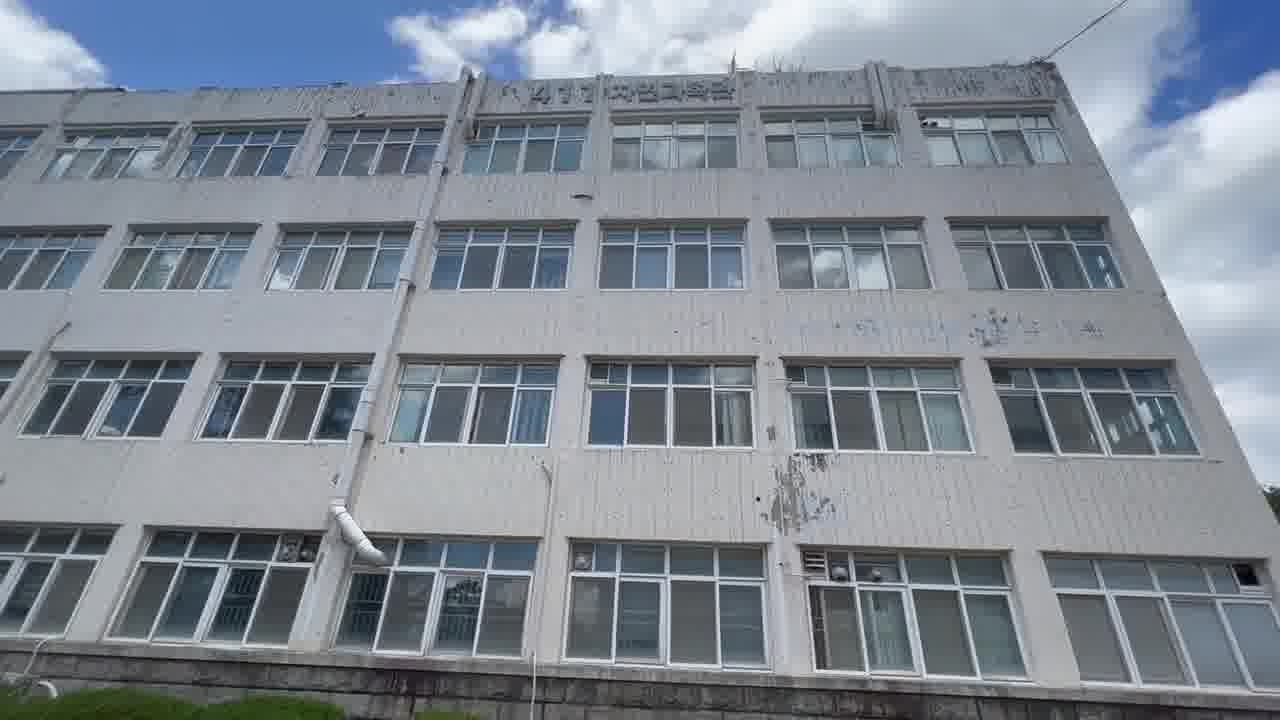high: (0, 63, 1280, 695)
